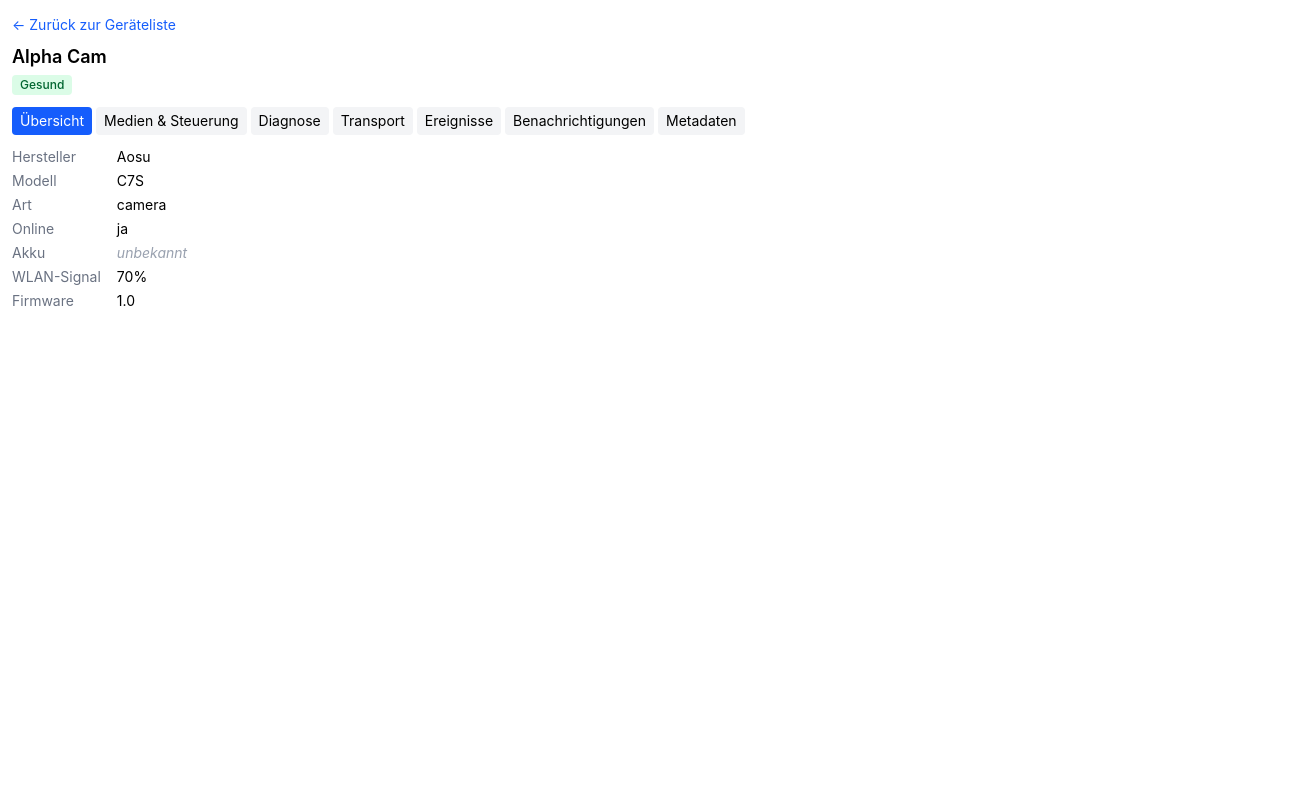
Test: DeviceDetail › shows a real error when a command is blocked
Click the tab "Medien & Steuerung". click: (171, 121)
box: top-left (96, 107), bottom-right (247, 135)
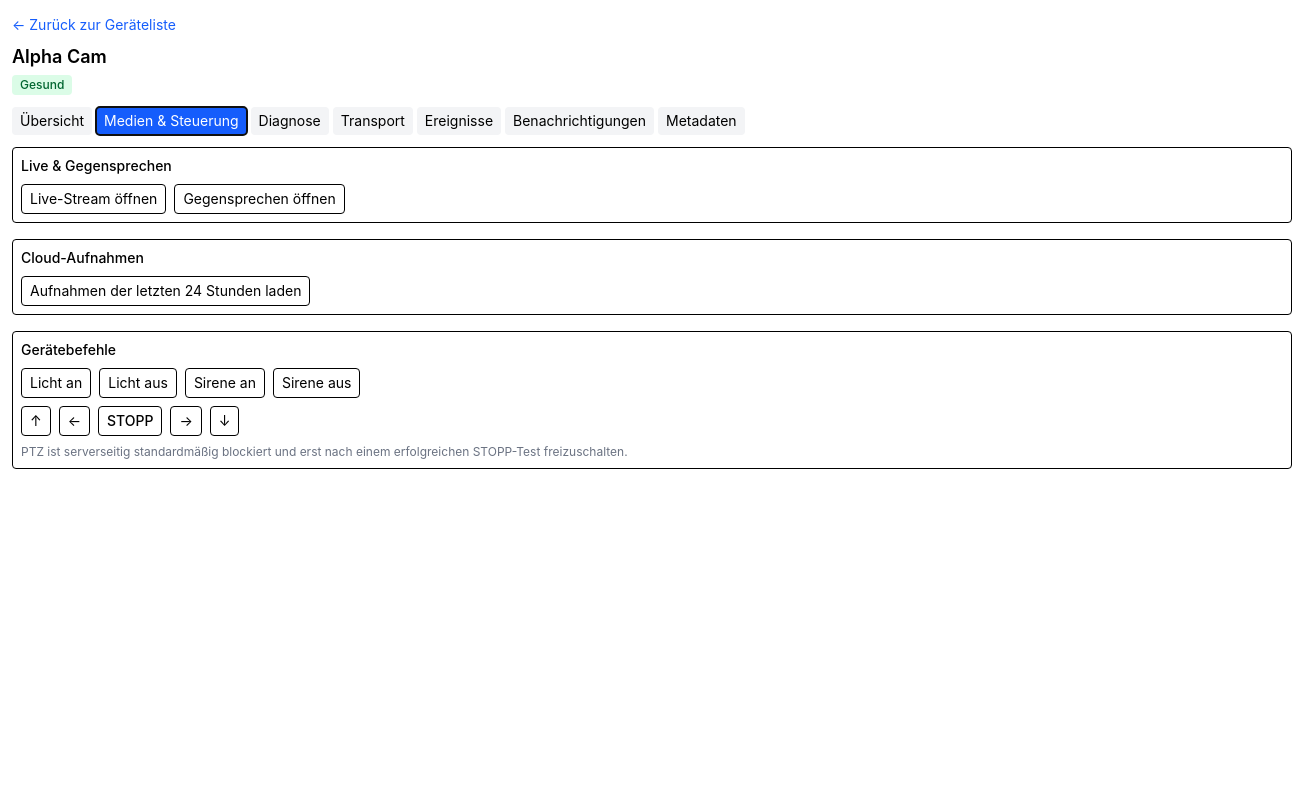
Click the button "STOPP". click: (130, 421)
box: top-left (98, 406), bottom-right (162, 436)
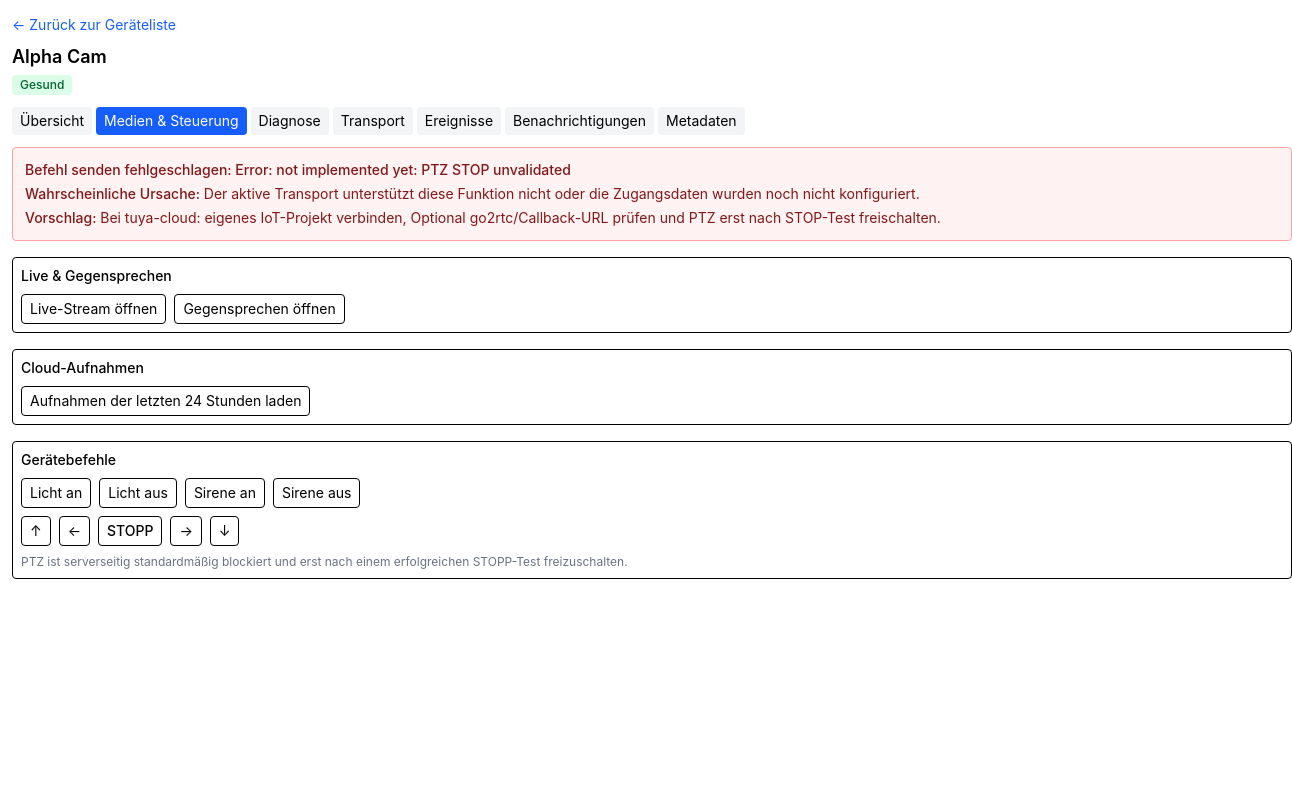
Check: the message shows "PTZ STOP unvalidated", box top-left (25, 161), bottom-right (571, 178)
